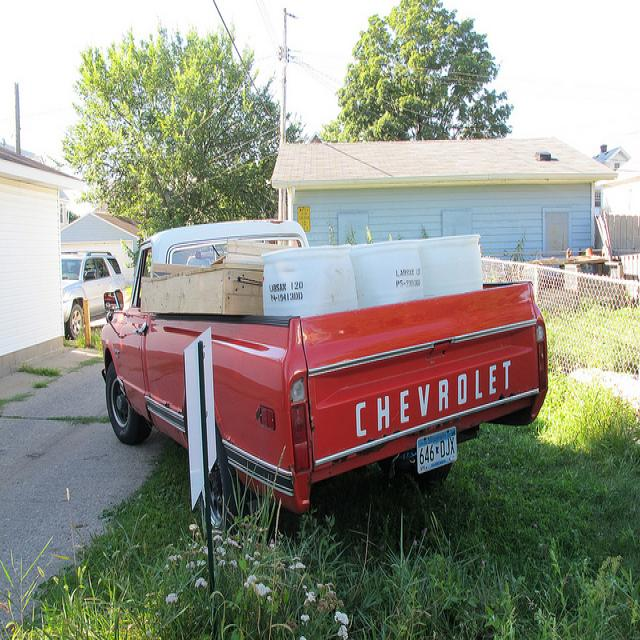Vehicle: (100, 220, 550, 532), (62, 252, 130, 336)
